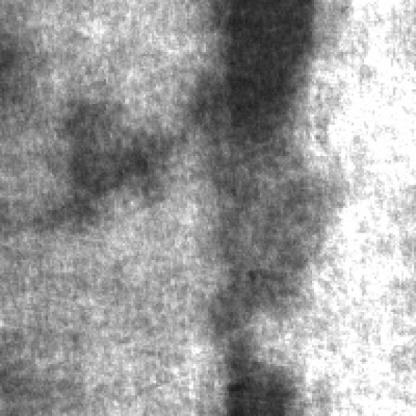patches: (194, 0, 331, 160), (37, 95, 177, 222), (216, 239, 314, 414)
